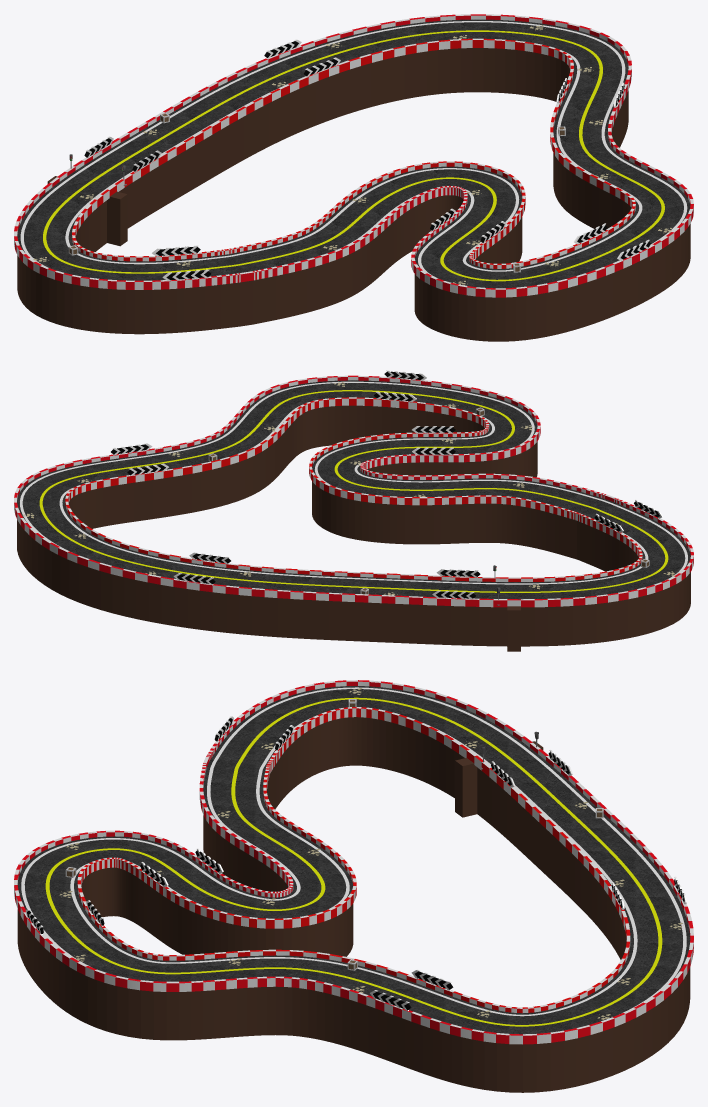
The model's file is tracjjj.fbx.
3 views of the same model, one above another, from view 1: azimuth 30°, elevation 25°; view 2: azimuth 150°, elevation 25°; view 3: azimuth 270°, elevation 25° (orthographic). The views are drawn at different scales.
Parts seen in each view (by area): view 1: track_Terrain, track_barriers, arrows, papers; view 2: track_Terrain, track_barriers, arrows, papers; view 3: track_Terrain, track_barriers, arrows, papers.
Boxes of the visible parts, box(x1,y1,x2,y2) form: track_Terrain: box(17, 19, 690, 341); track_barriers: box(14, 14, 693, 297); arrows: box(84, 39, 650, 280); papers: box(33, 25, 671, 285); track_Terrain: box(17, 380, 690, 651); track_barriers: box(14, 375, 693, 607); arrows: box(111, 370, 662, 599); papers: box(22, 381, 677, 595); track_Terrain: box(17, 686, 690, 1092); track_barriers: box(14, 680, 693, 1044); arrows: box(25, 716, 686, 1010); papers: box(59, 688, 684, 1020).
Size of the model in its own units: 3930 by 378 by 3176.
